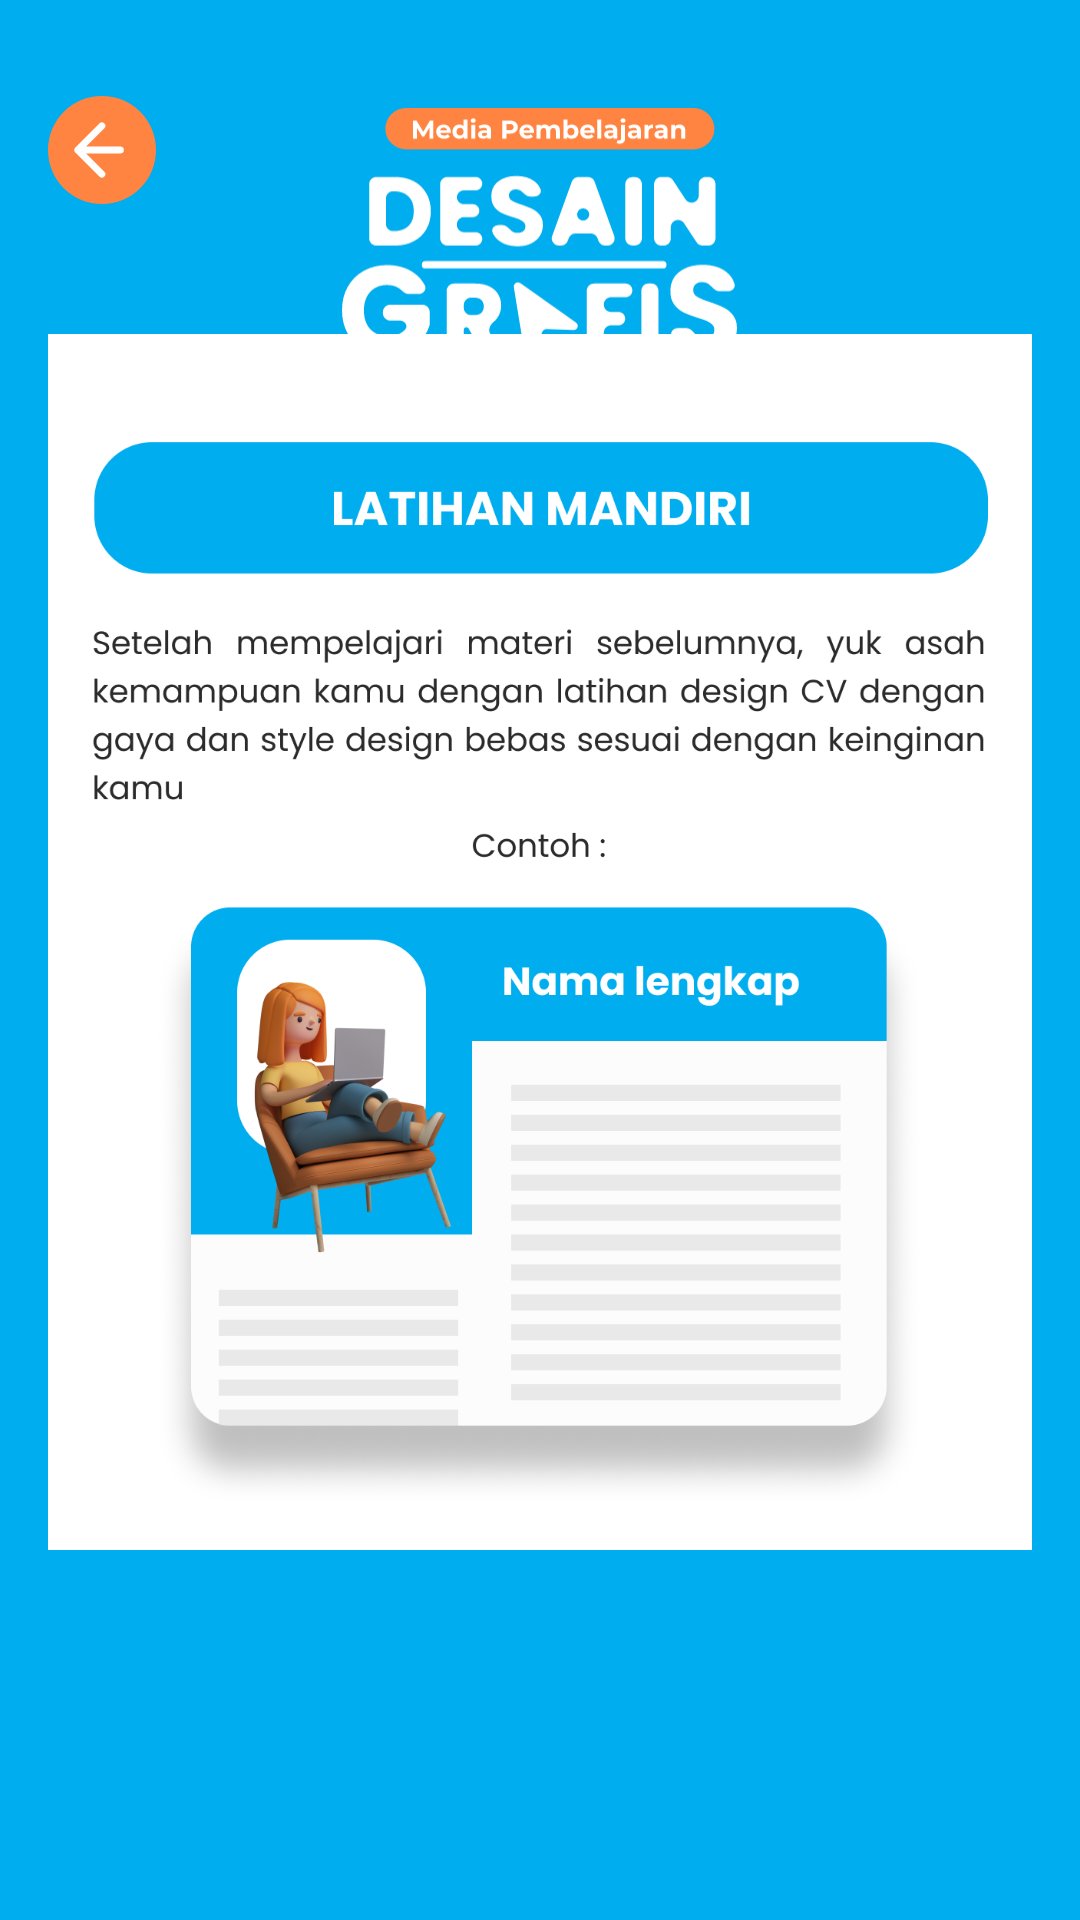

Named icons in this screenshot (1080px x 1920px) and their centers, point (x, y):
back: point (102, 150)
